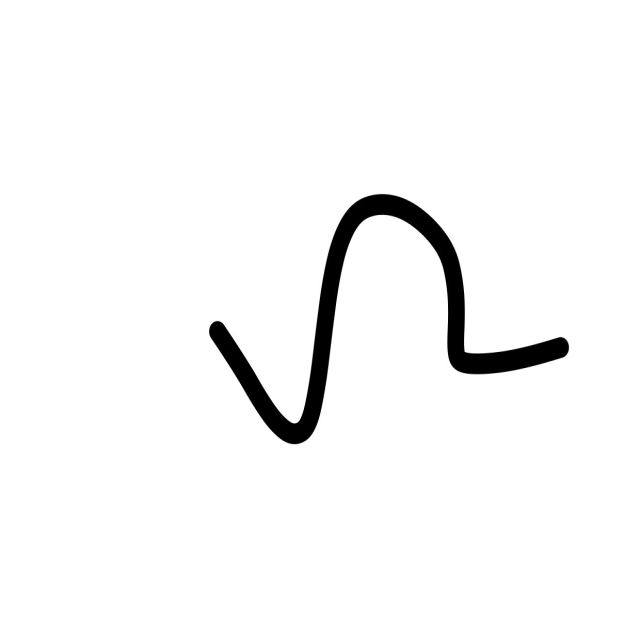ohms: (102, 100, 620, 507)
